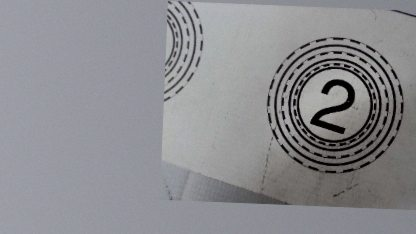2r: (262, 33, 407, 178)
